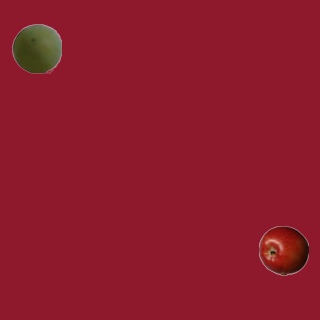Apple Braeburn: (258, 225, 308, 275)
Grape White 4: (11, 23, 61, 73)
